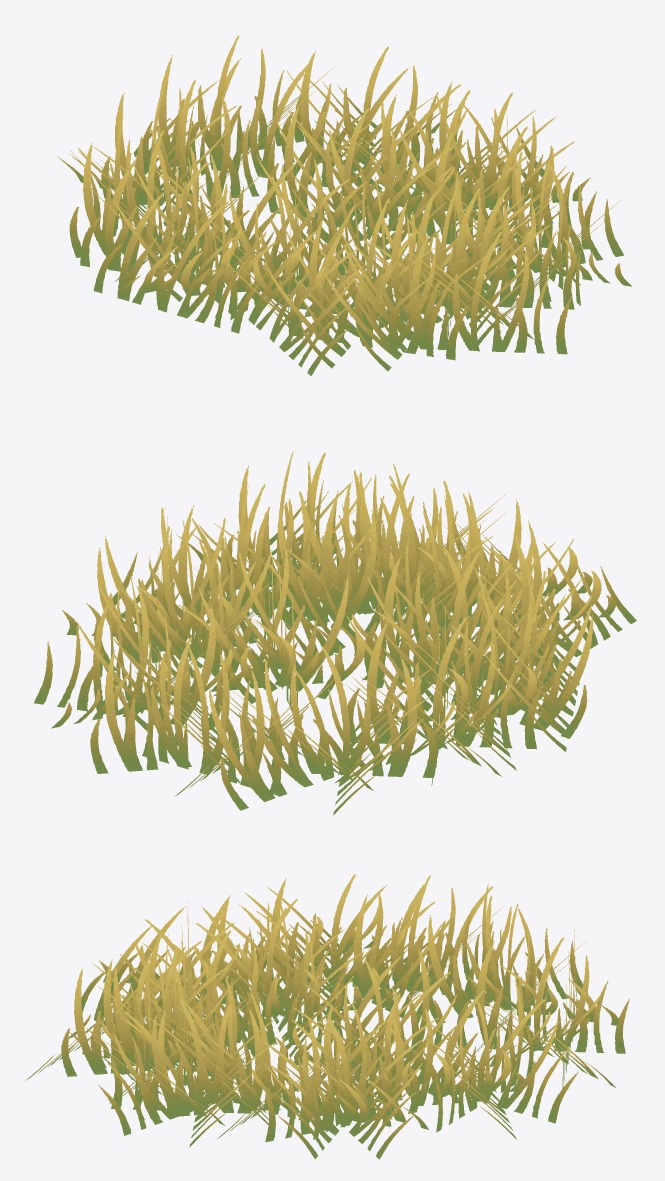
The model's file is V_Grass8.fbx.
3 renders of one model, top to bottom at view 1: azimuth 30°, elevation 25°; view 2: azimuth 150°, elevation 25°; view 3: azimuth 270°, elevation 25°, orthographic. The views are drawn at different scales.
Parts seen in each view (by area): view 1: TW101_grass09; view 2: TW101_grass09; view 3: TW101_grass09.
Boxes of the visible parts, x1=… form: TW101_grass09: x1=57, y1=35, x2=632, y2=376; TW101_grass09: x1=33, y1=451, x2=636, y2=815; TW101_grass09: x1=25, y1=874, x2=629, y2=1159.
Bounding box in the file's own units: 1.67 × 0.4013 × 1.98.
